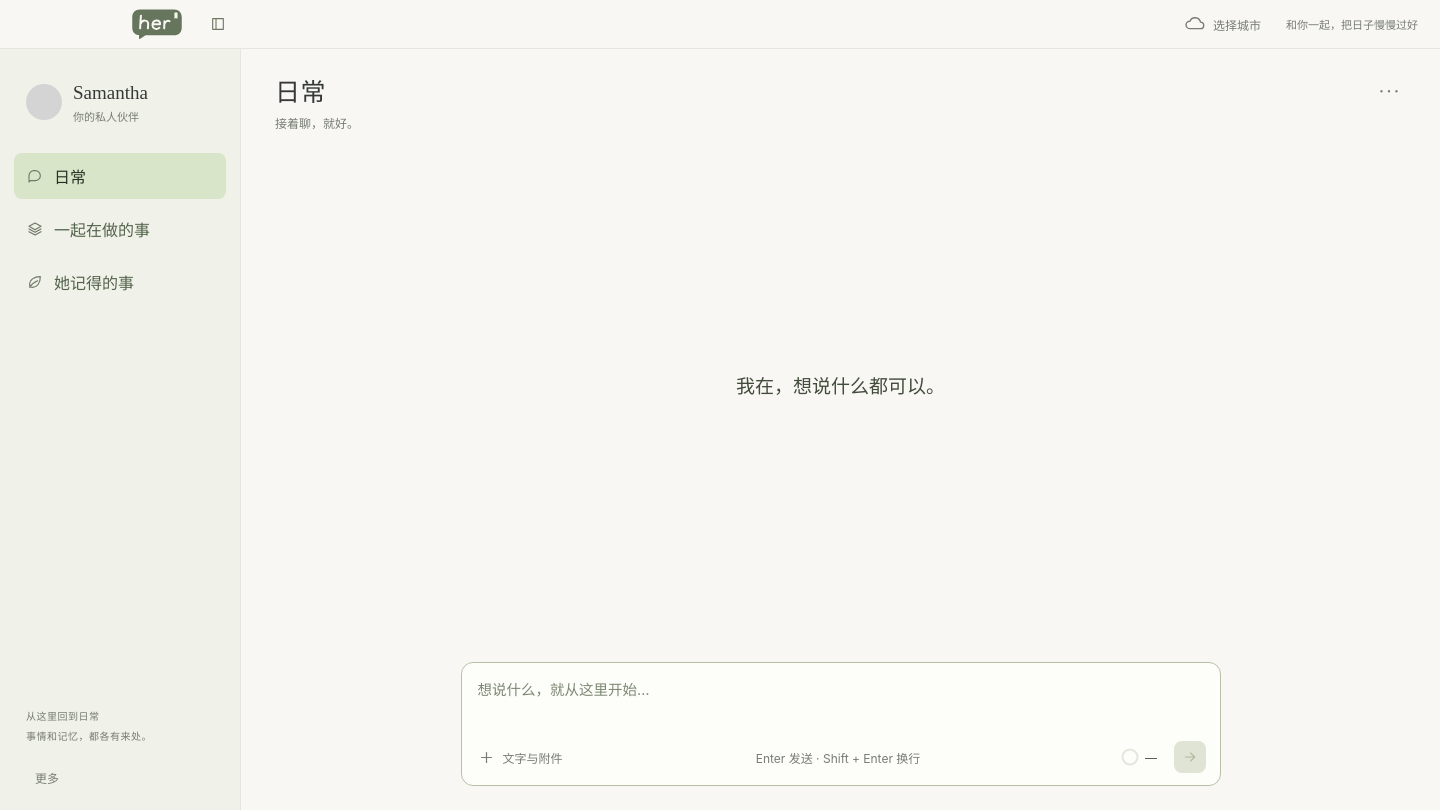
Test case: conversation navigation and failure recovery › restores sidebar width and collapsed groups after hiding without clearing the draft
(page scrolled)
Expected: the text box named "消息" is shown, top-left (476, 675), bottom-right (1206, 733)
Click the button "一起在做的事".
click(120, 229)  # box top-left (14, 206), bottom-right (226, 252)
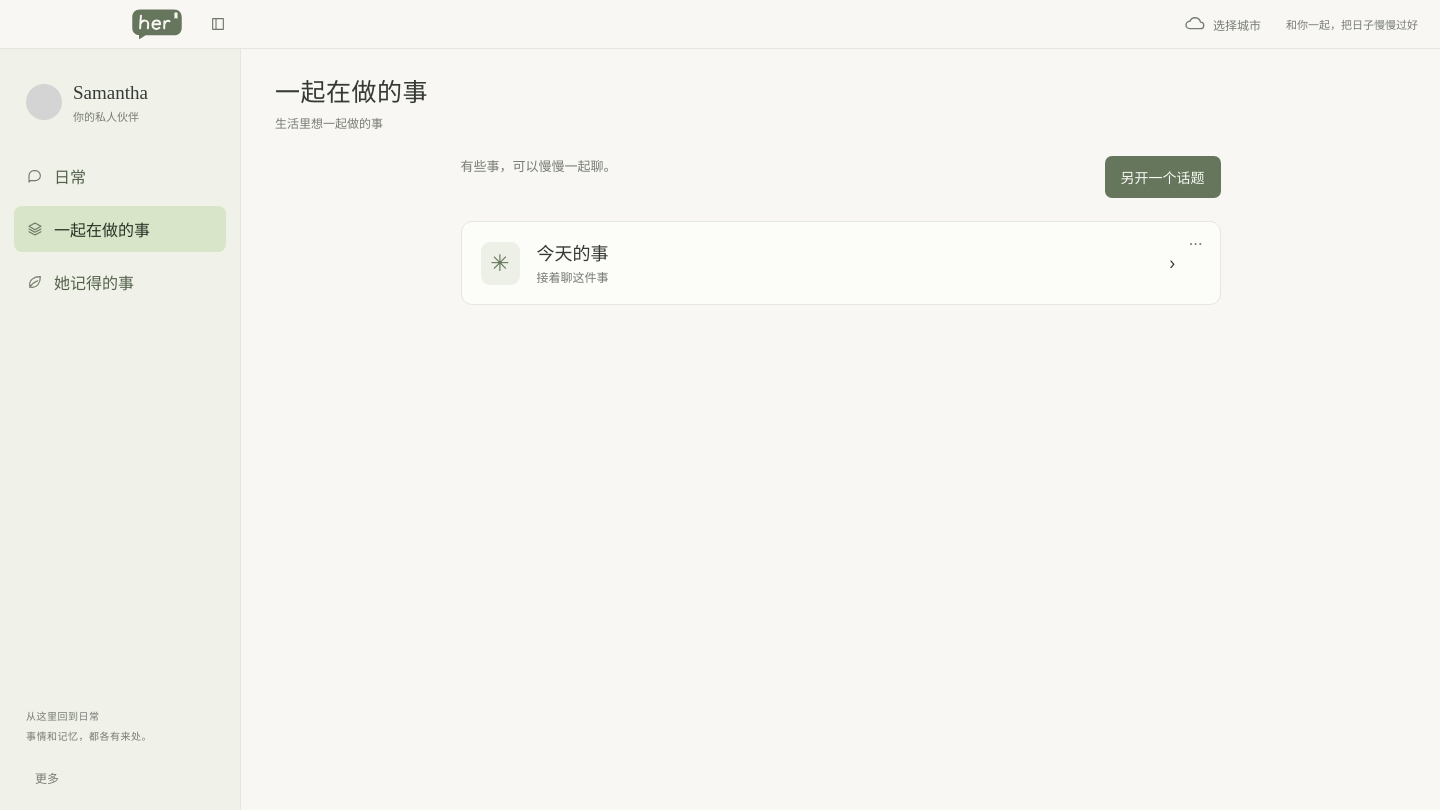
Click the button "✳ 今天的事 接着聊这件事 ›".
click(500, 263)  # box top-left (462, 222), bottom-right (1220, 304)
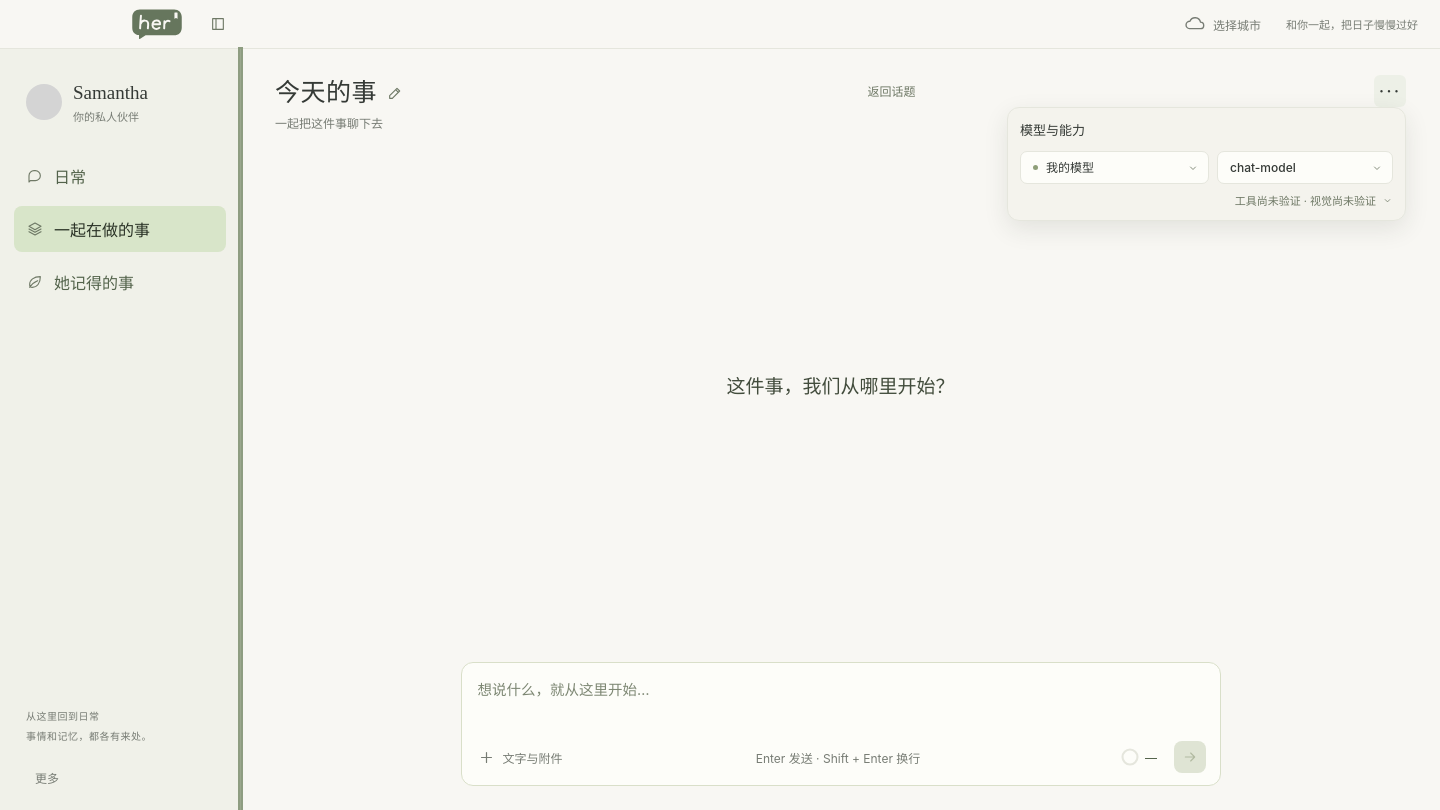
Press Arrowright
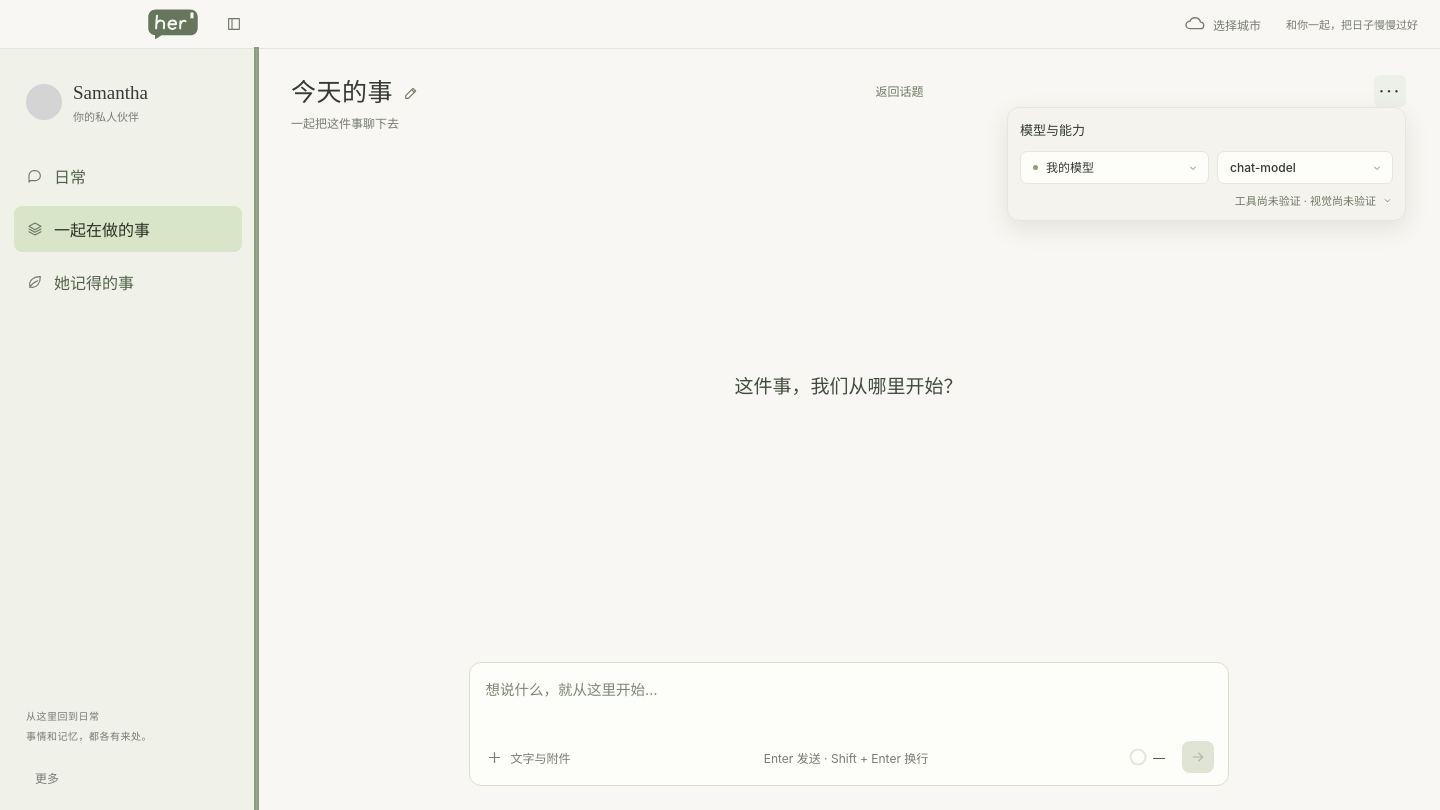
Type "侧栏收起后继续写" into the text box named "消息".
click(848, 704); type("侧栏收起后继续写")  # box top-left (484, 675), bottom-right (1214, 733)
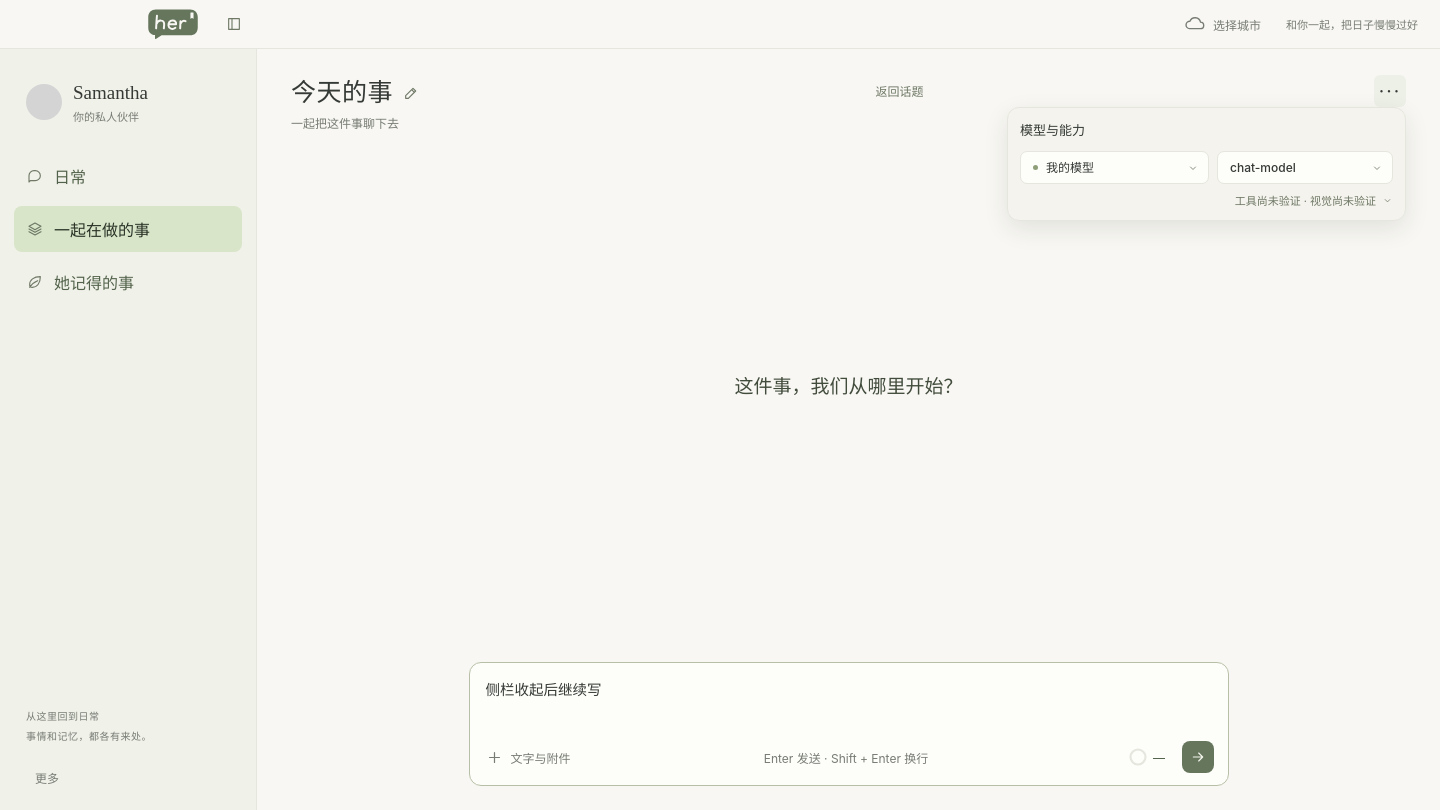
Click the button named "隐藏侧栏".
click(234, 24)  # box top-left (220, 11), bottom-right (248, 37)
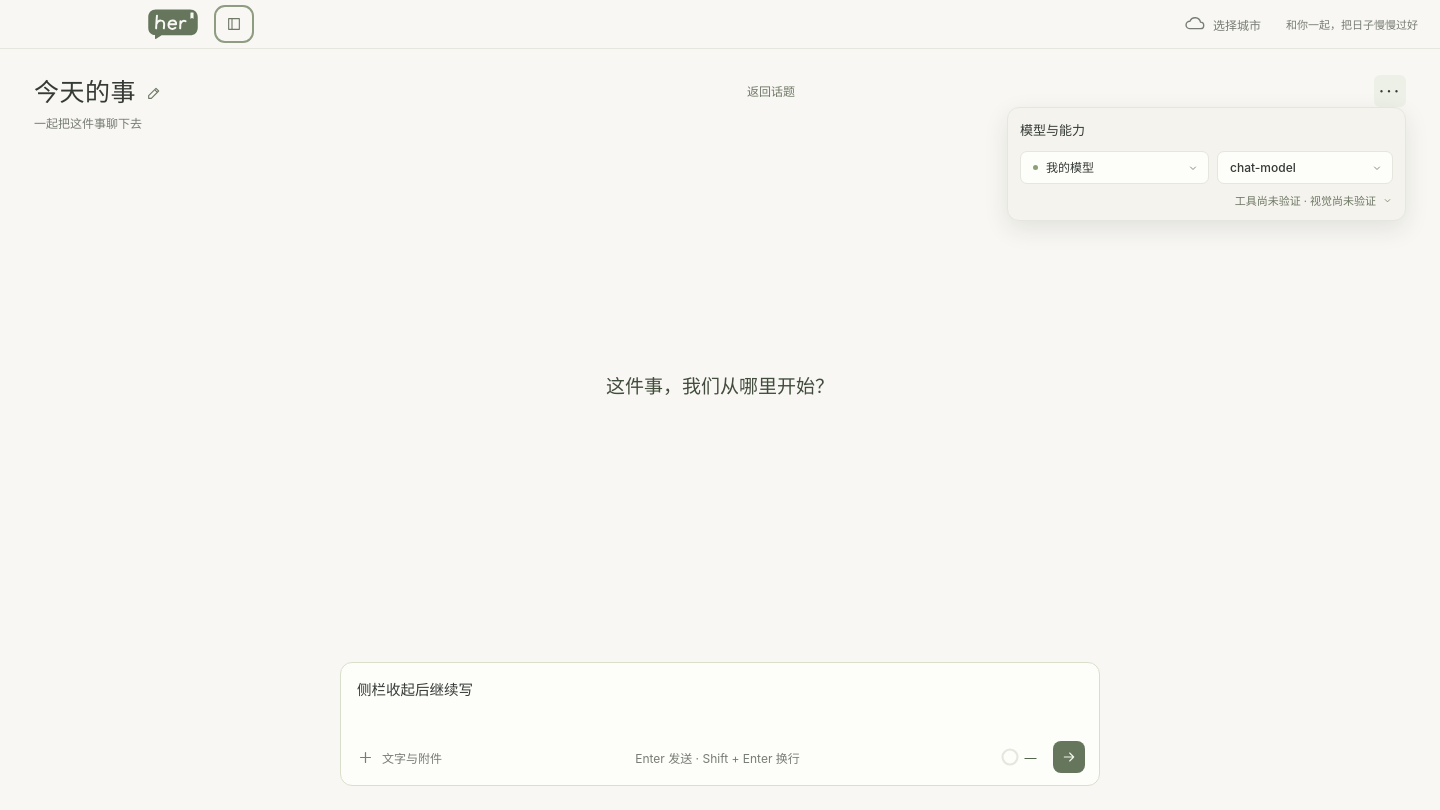
Expected: the element "会话侧栏" is gone
Click the button named "显示侧栏".
click(234, 24)  # box top-left (220, 11), bottom-right (248, 37)
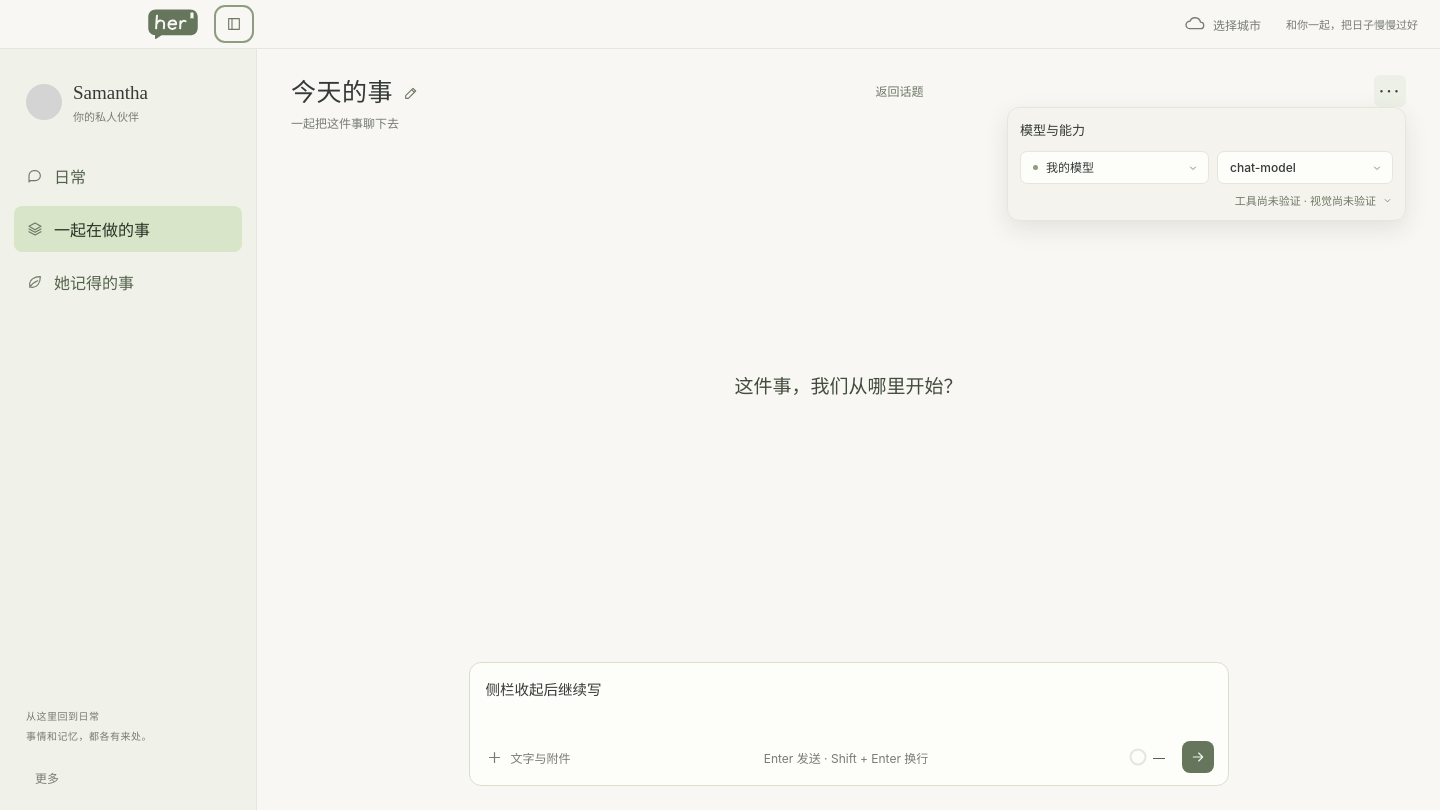
Expected: the element named "会话侧栏" is shown, top-left (0, 49), bottom-right (256, 809)
Expected: the button "一起在做的事" is shown, top-left (14, 206), bottom-right (242, 252)
